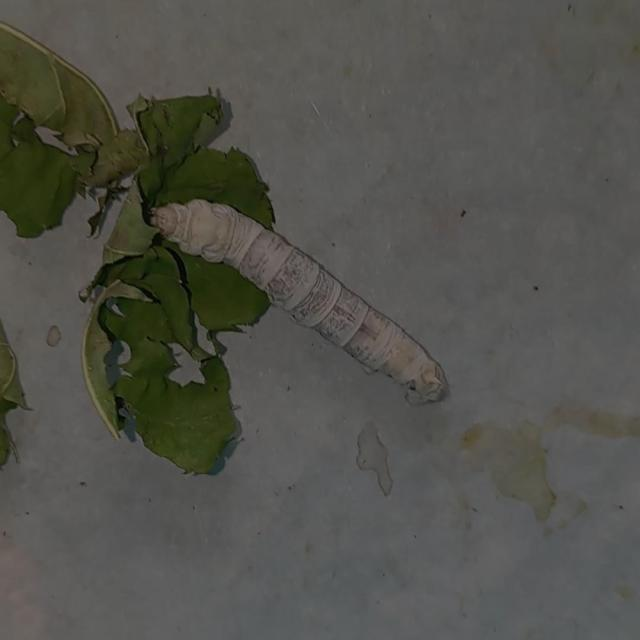Grasserie: (138, 157, 465, 440)
